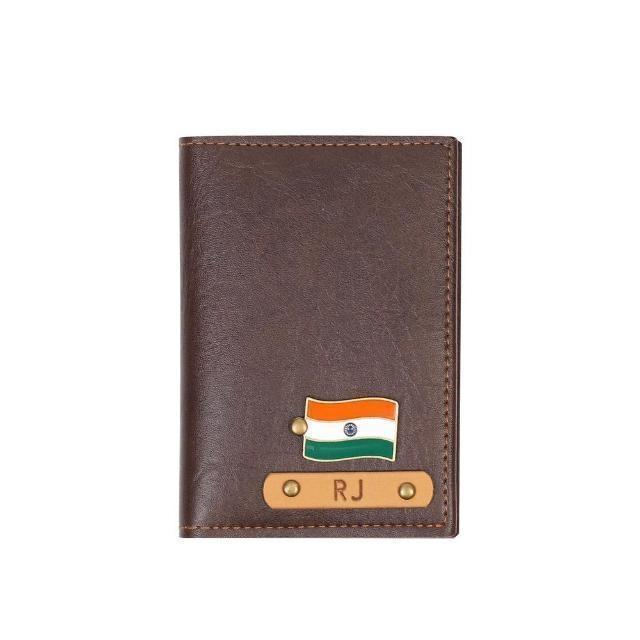Wallet: (170, 130, 464, 546)
